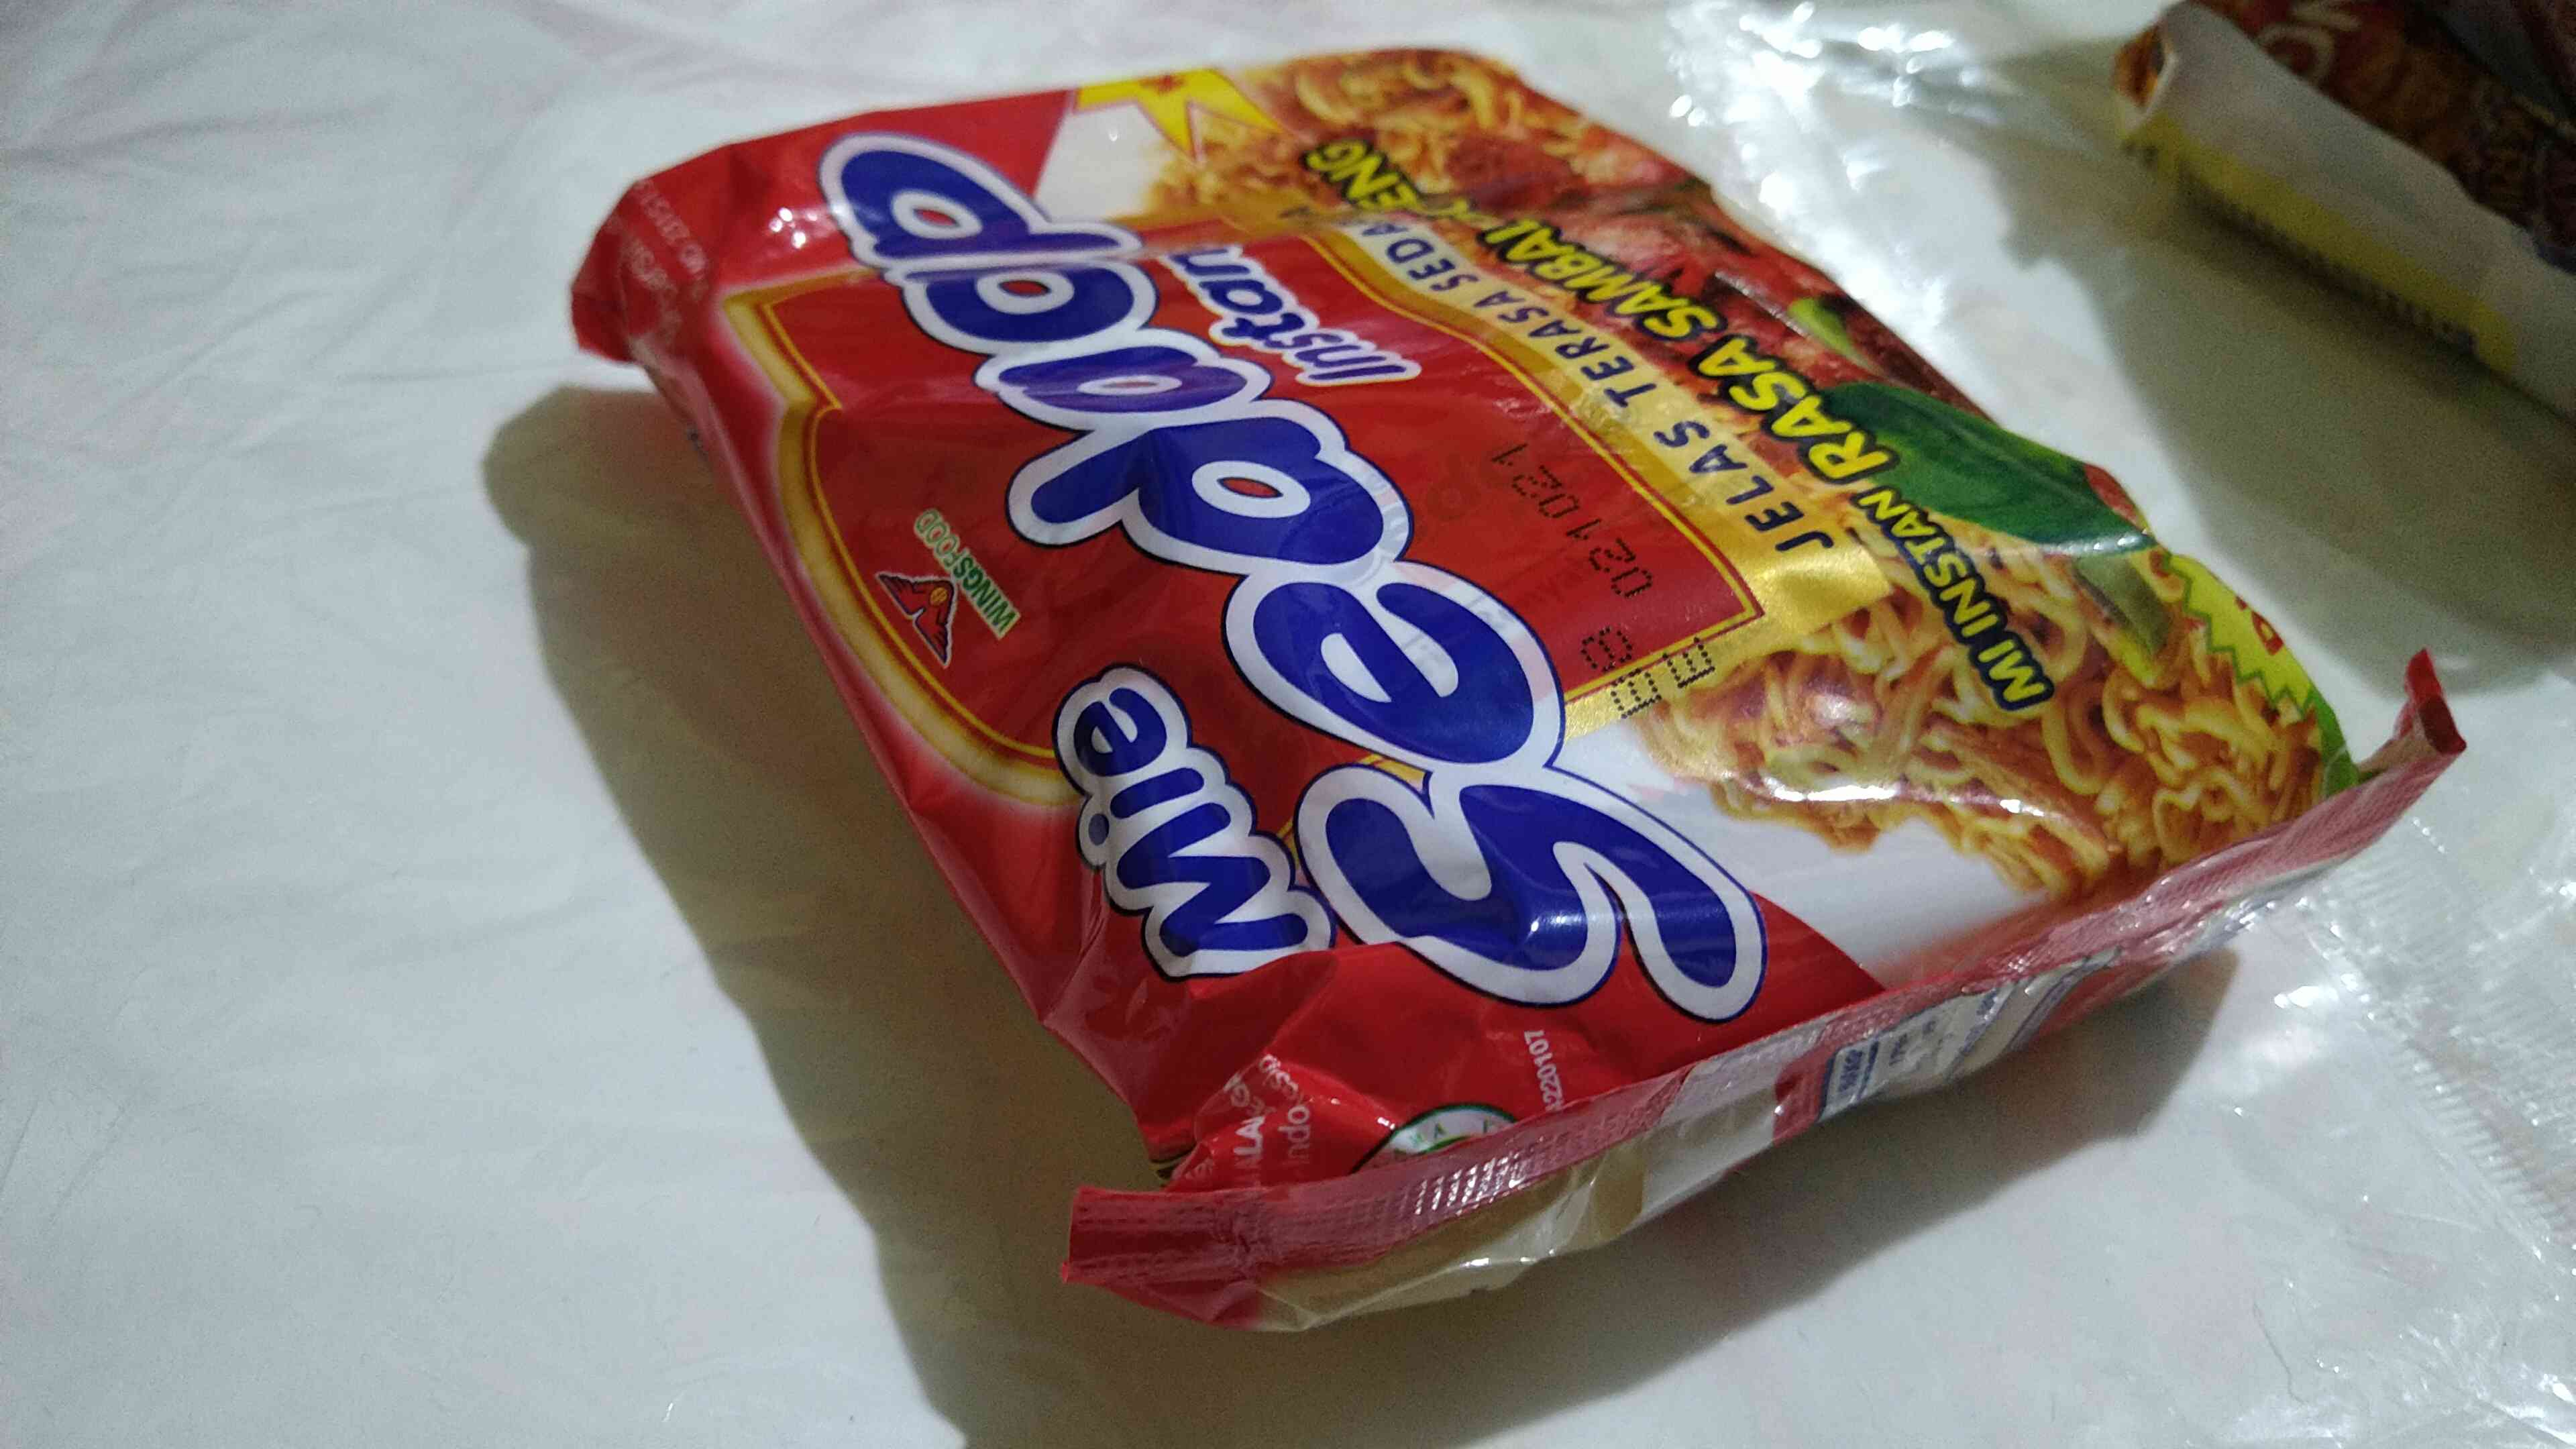sedaap sambal goreng: (541, 34, 2461, 1315)
